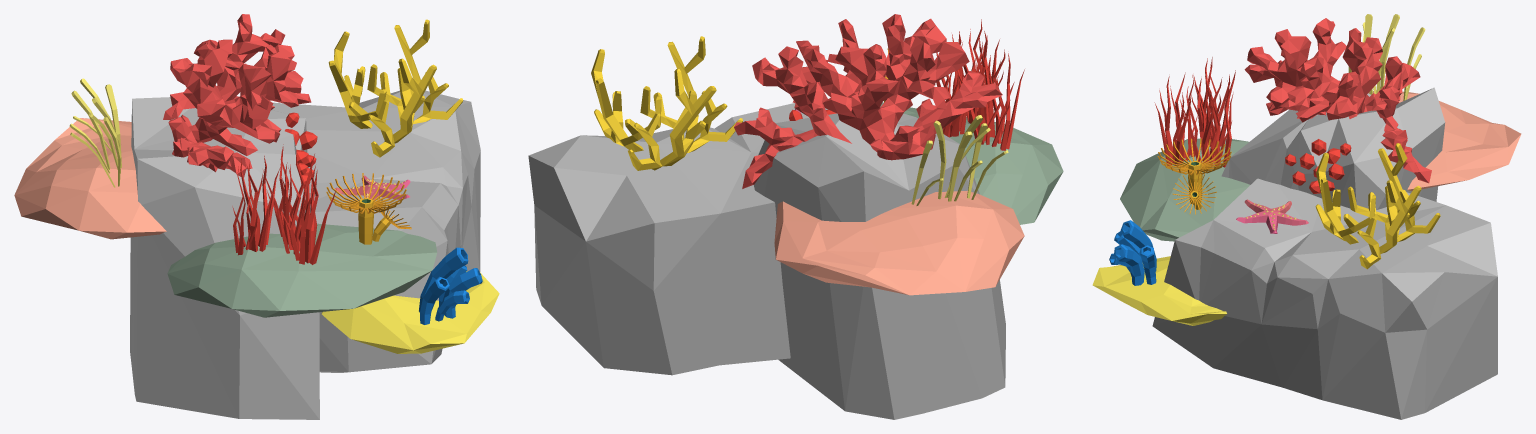
File: CoralReef5.glb
3 renders of one model, left to right at view 1: azimuth 30°, elevation 25°; view 2: azimuth 150°, elevation 25°; view 3: azimuth 270°, elevation 25°, orthographic. The views are drawn at different scales.
Parts seen in each view (by area): view 1: Coral_reef_013; view 2: Coral_reef_013; view 3: Coral_reef_013.
Part boxes in pixels (x1=…): Coral_reef_013: x1=14, y1=14, x2=499, y2=419; Coral_reef_013: x1=528, y1=14, x2=1063, y2=419; Coral_reef_013: x1=1092, y1=14, x2=1521, y2=419.
Size of what is drawn, in the model's own units: 4.37 by 3.02 by 3.98.
Materials: 1 (1 with a texture image).
